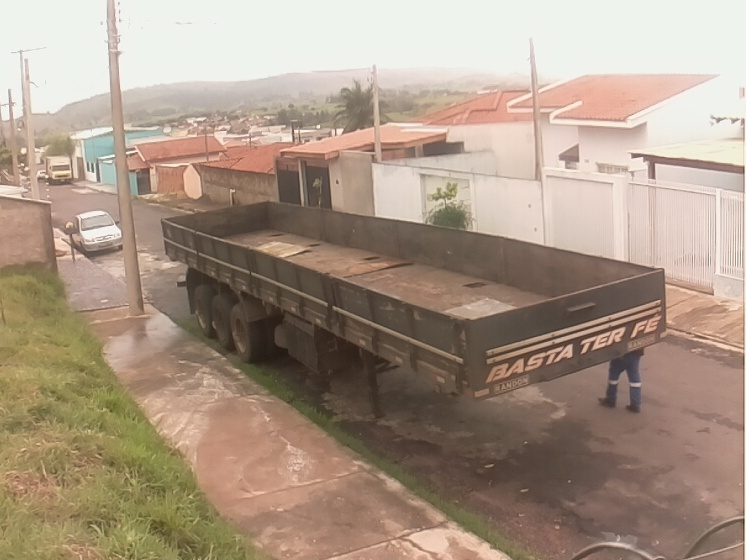person: (598, 343, 644, 413)
